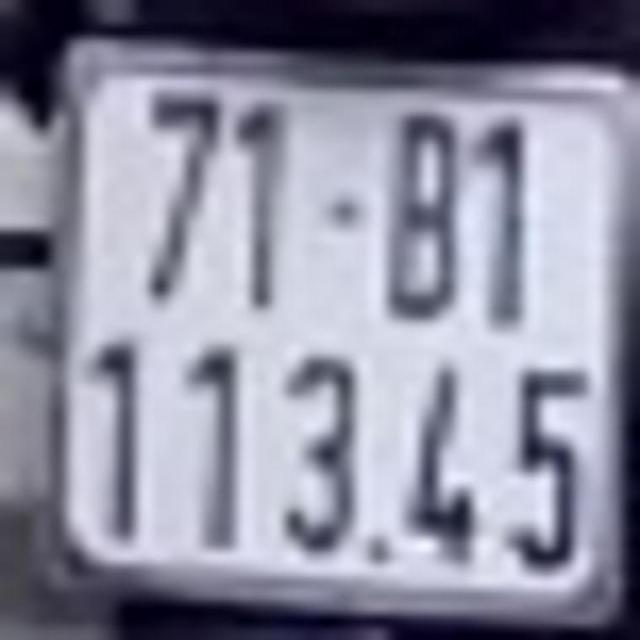1: (188, 339, 248, 556), (88, 332, 148, 542), (474, 108, 530, 327), (237, 90, 284, 306)
3: (284, 347, 367, 559)
4: (408, 355, 484, 568)
5: (513, 345, 591, 569)
7: (136, 87, 225, 304)
B: (388, 108, 456, 326)
